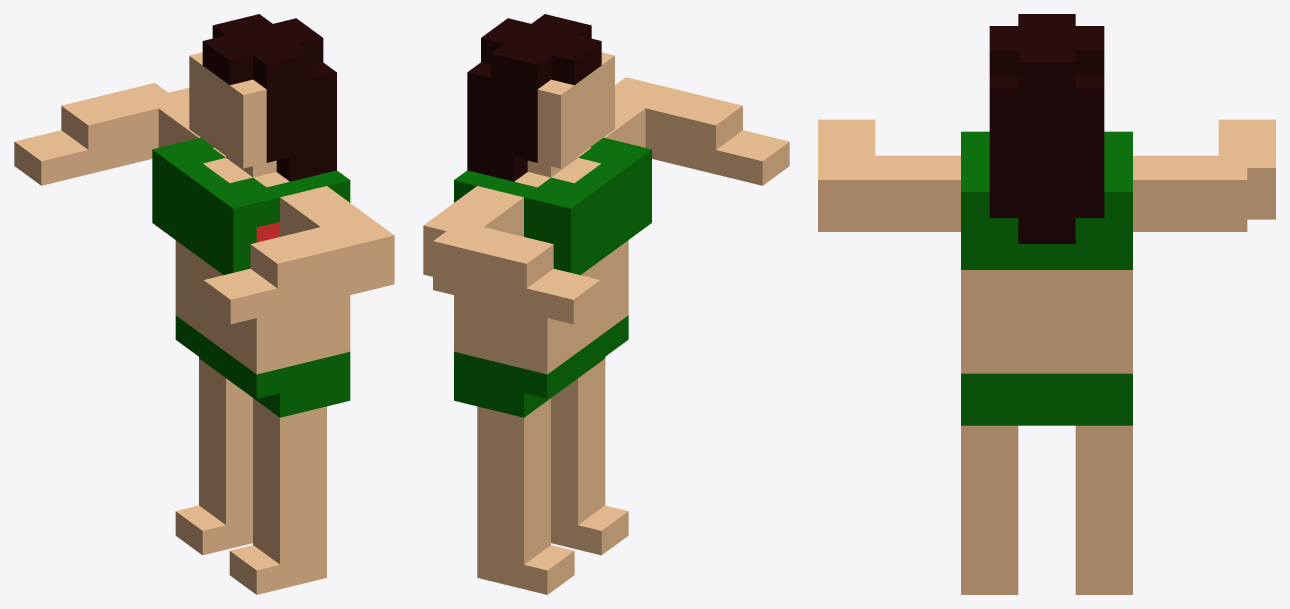
The model's file is akka2.obj.
3 views of the same model, side by side, from view 1: azimuth 30°, elevation 25°; view 2: azimuth 150°, elevation 25°; view 3: azimuth 270°, elevation 25° (orthographic). The views are drawn at different scales.
Bounding box in the file's own units: 8 × 21 × 16.
1 material, 1 textured.
